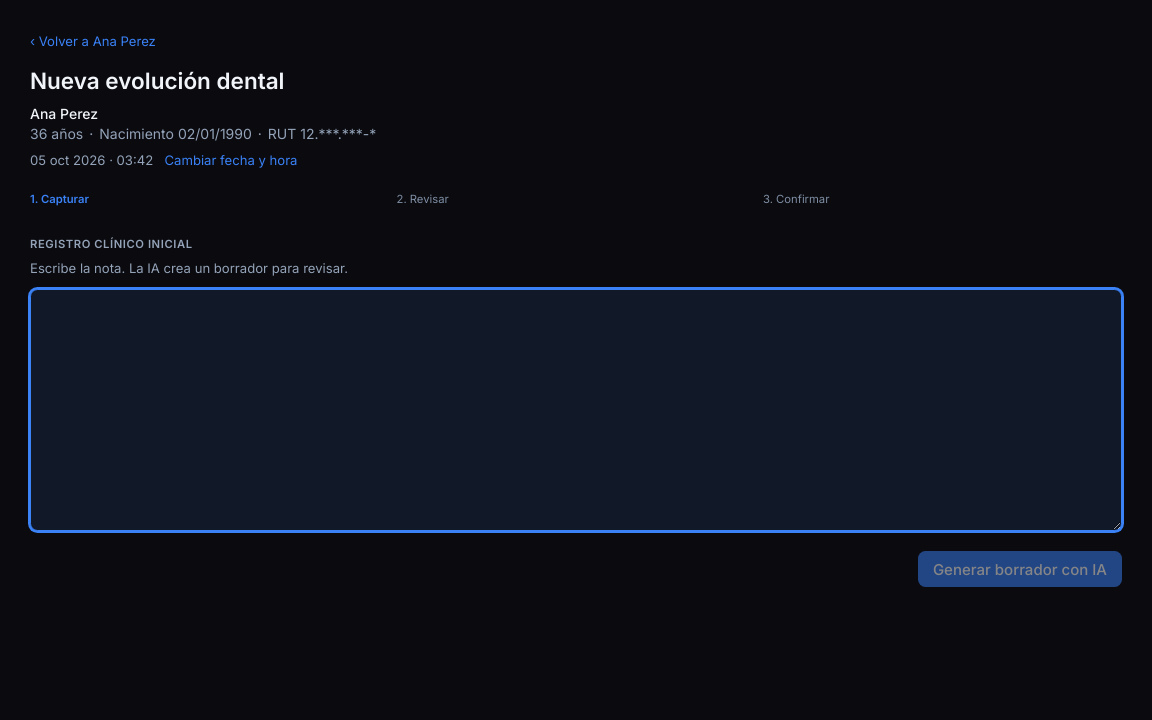
Scenario: NewEvolution generation states › reviews a flag-only generation with saving disabled
Expected: the heading "Nueva evolución dental" is shown, 30,67 -> 284,94
Type "Paciente refiere sensibilidad al frío." into the text box named "Nota clínica" at (576, 410), box 30,289 -> 1122,531
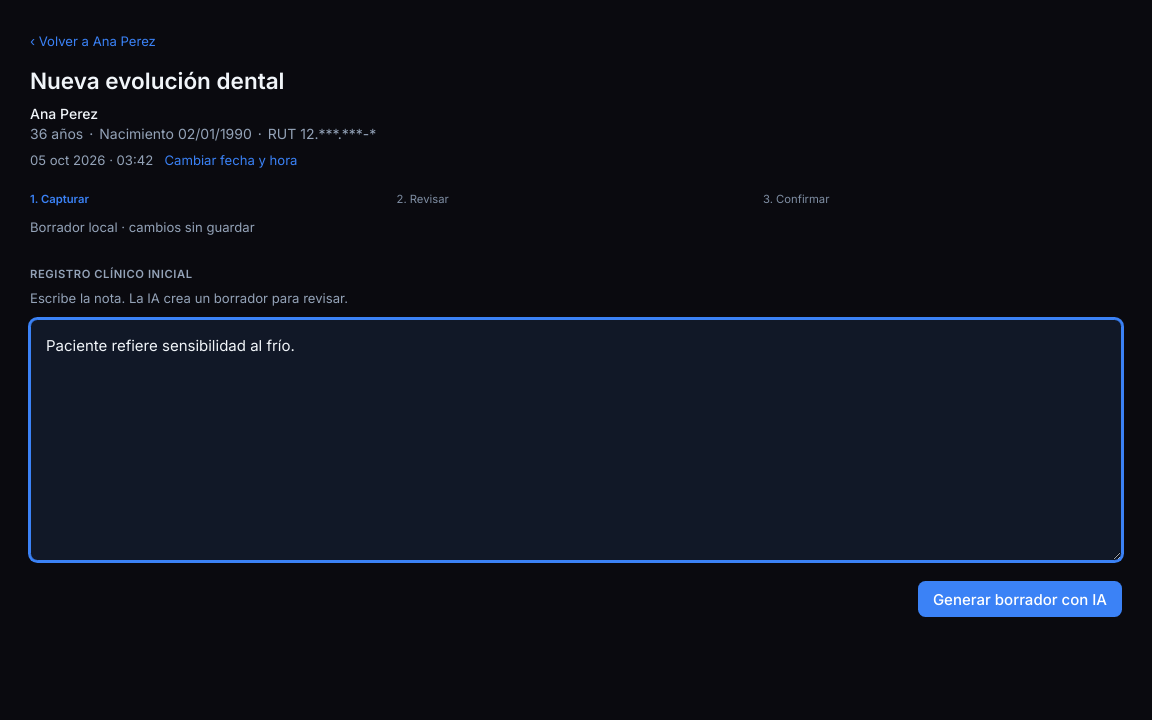
Click the button "Generar borrador con IA" at (1020, 599), box 918,581 -> 1122,617
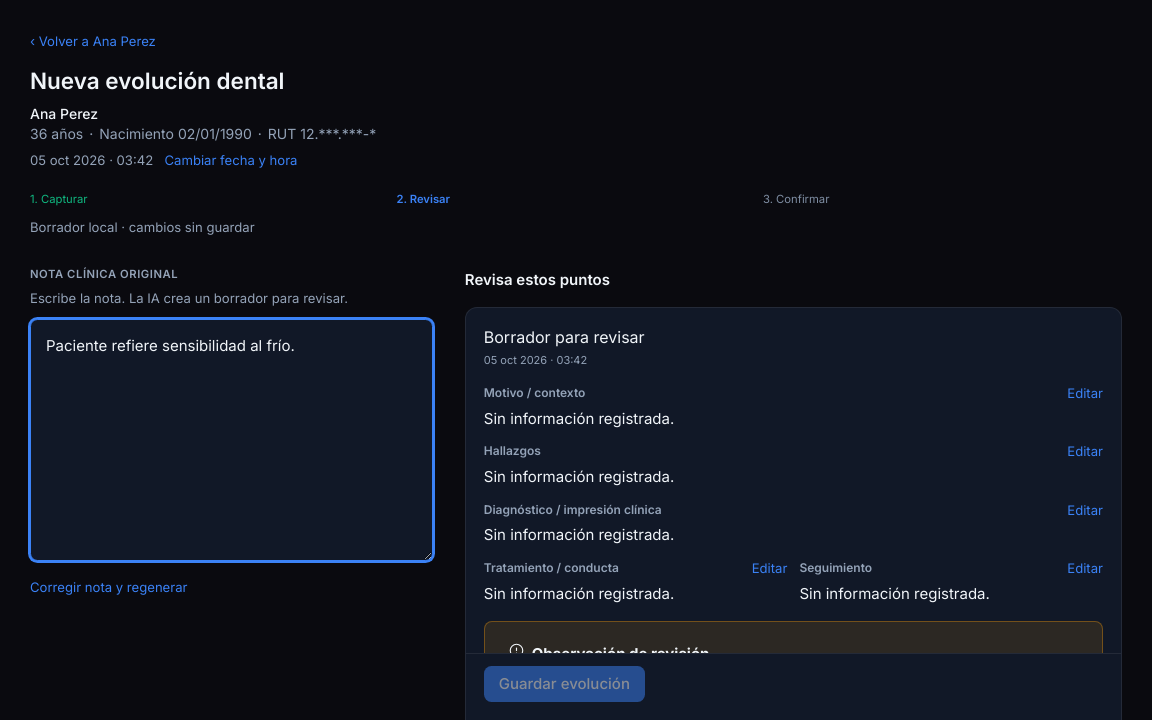
Result: the heading "Revisa estos puntos" is shown at 465,270 -> 610,289
Result: the button "Guardar evolución" is disabled at 484,666 -> 645,702
